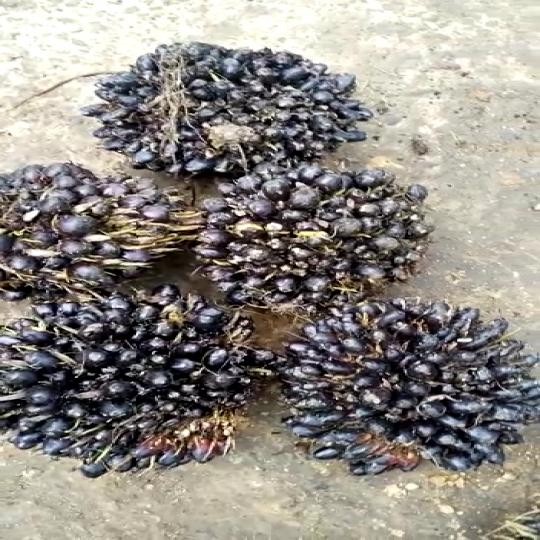mentah: (0, 284, 270, 478), (272, 293, 540, 483), (87, 41, 377, 169), (207, 168, 443, 316), (0, 163, 187, 305)
